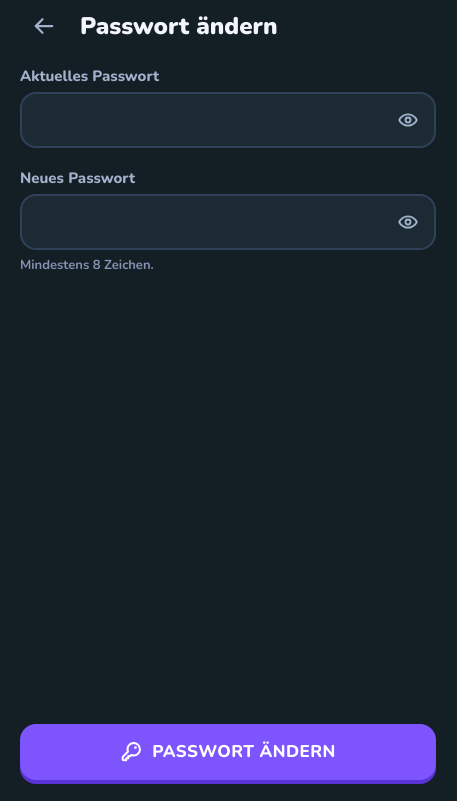
ChangePasswordPage › waits out the throttle after too many wrong passwords
This screenshot has width=457, height=801.
In the password field labelled "Aktuelles Passwort": (228, 120) [20,92,436,148], type "falsch123"
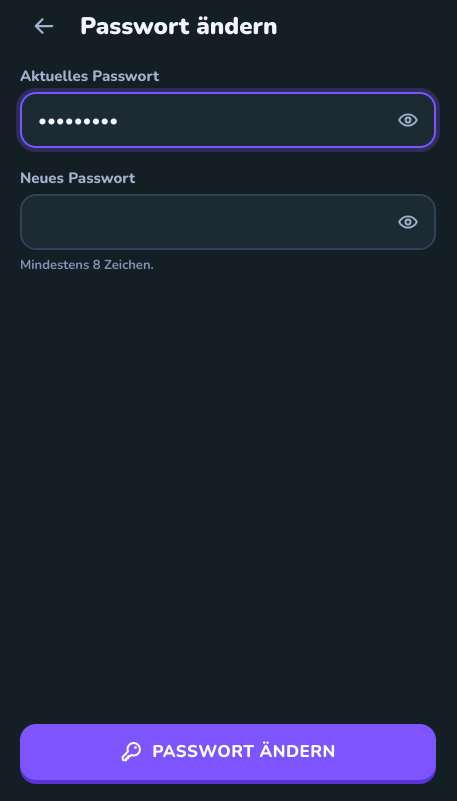
In the password field labelled "Neues Passwort": (228, 222) [20,194,436,250], type "neuGeheim1"
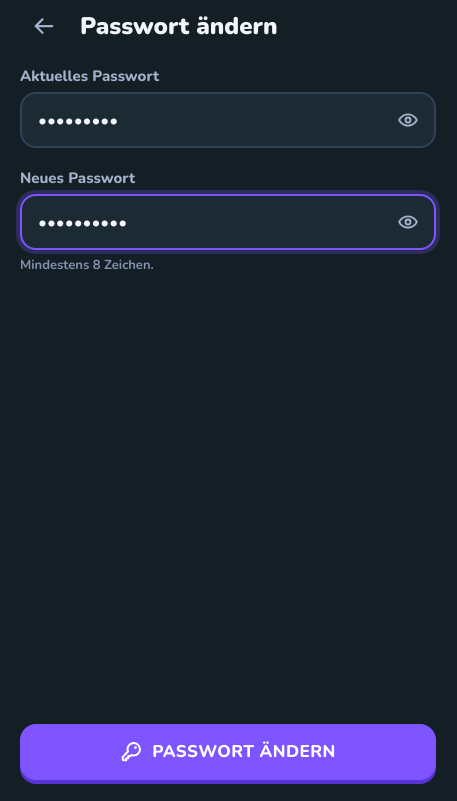
Click the button "Passwort ändern": (228, 752) [20,724,436,780]
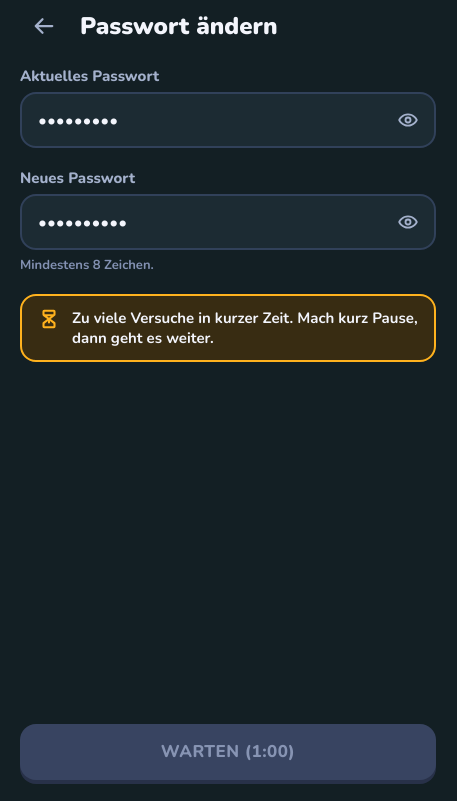
Expected: the button "Warten (1:00)" is disabled, [20,724,436,780]
